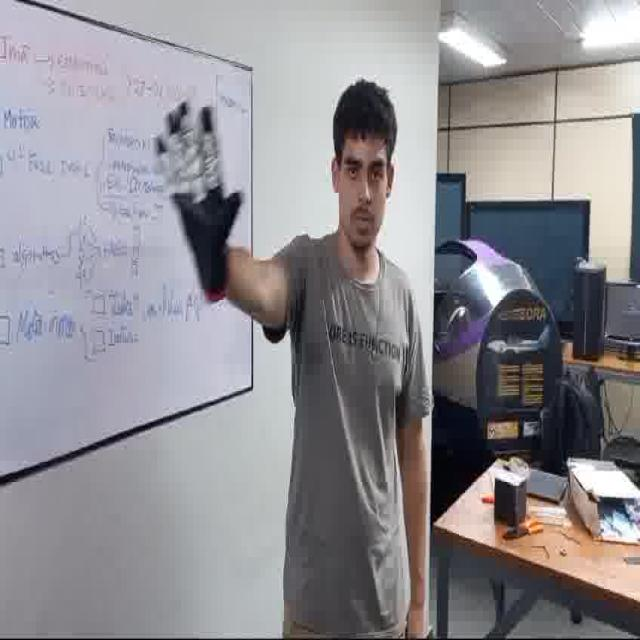Gloves: (150, 94, 255, 306)
